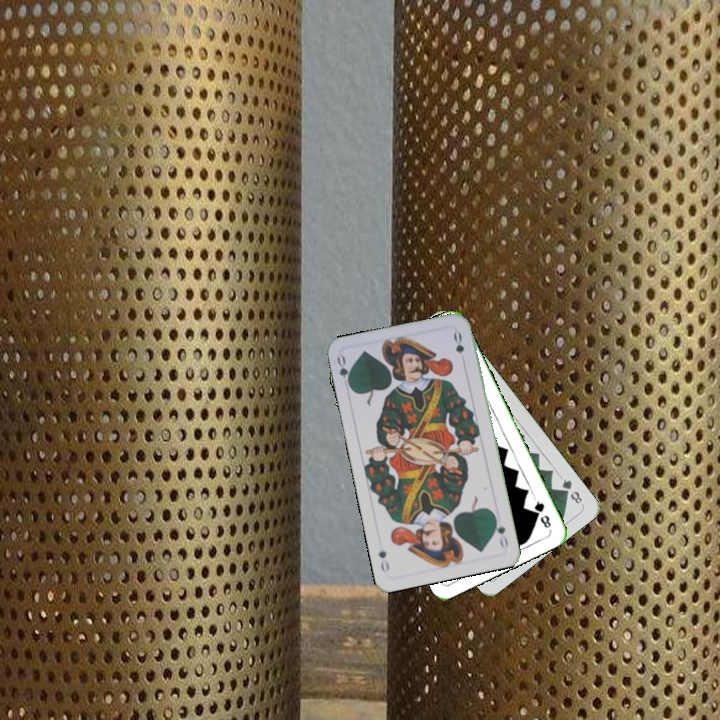G8: (558, 474, 585, 507), (530, 494, 554, 531)
GO: (333, 351, 354, 392), (490, 512, 511, 551)
